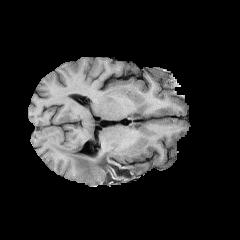glioma: (50, 142, 147, 184)
